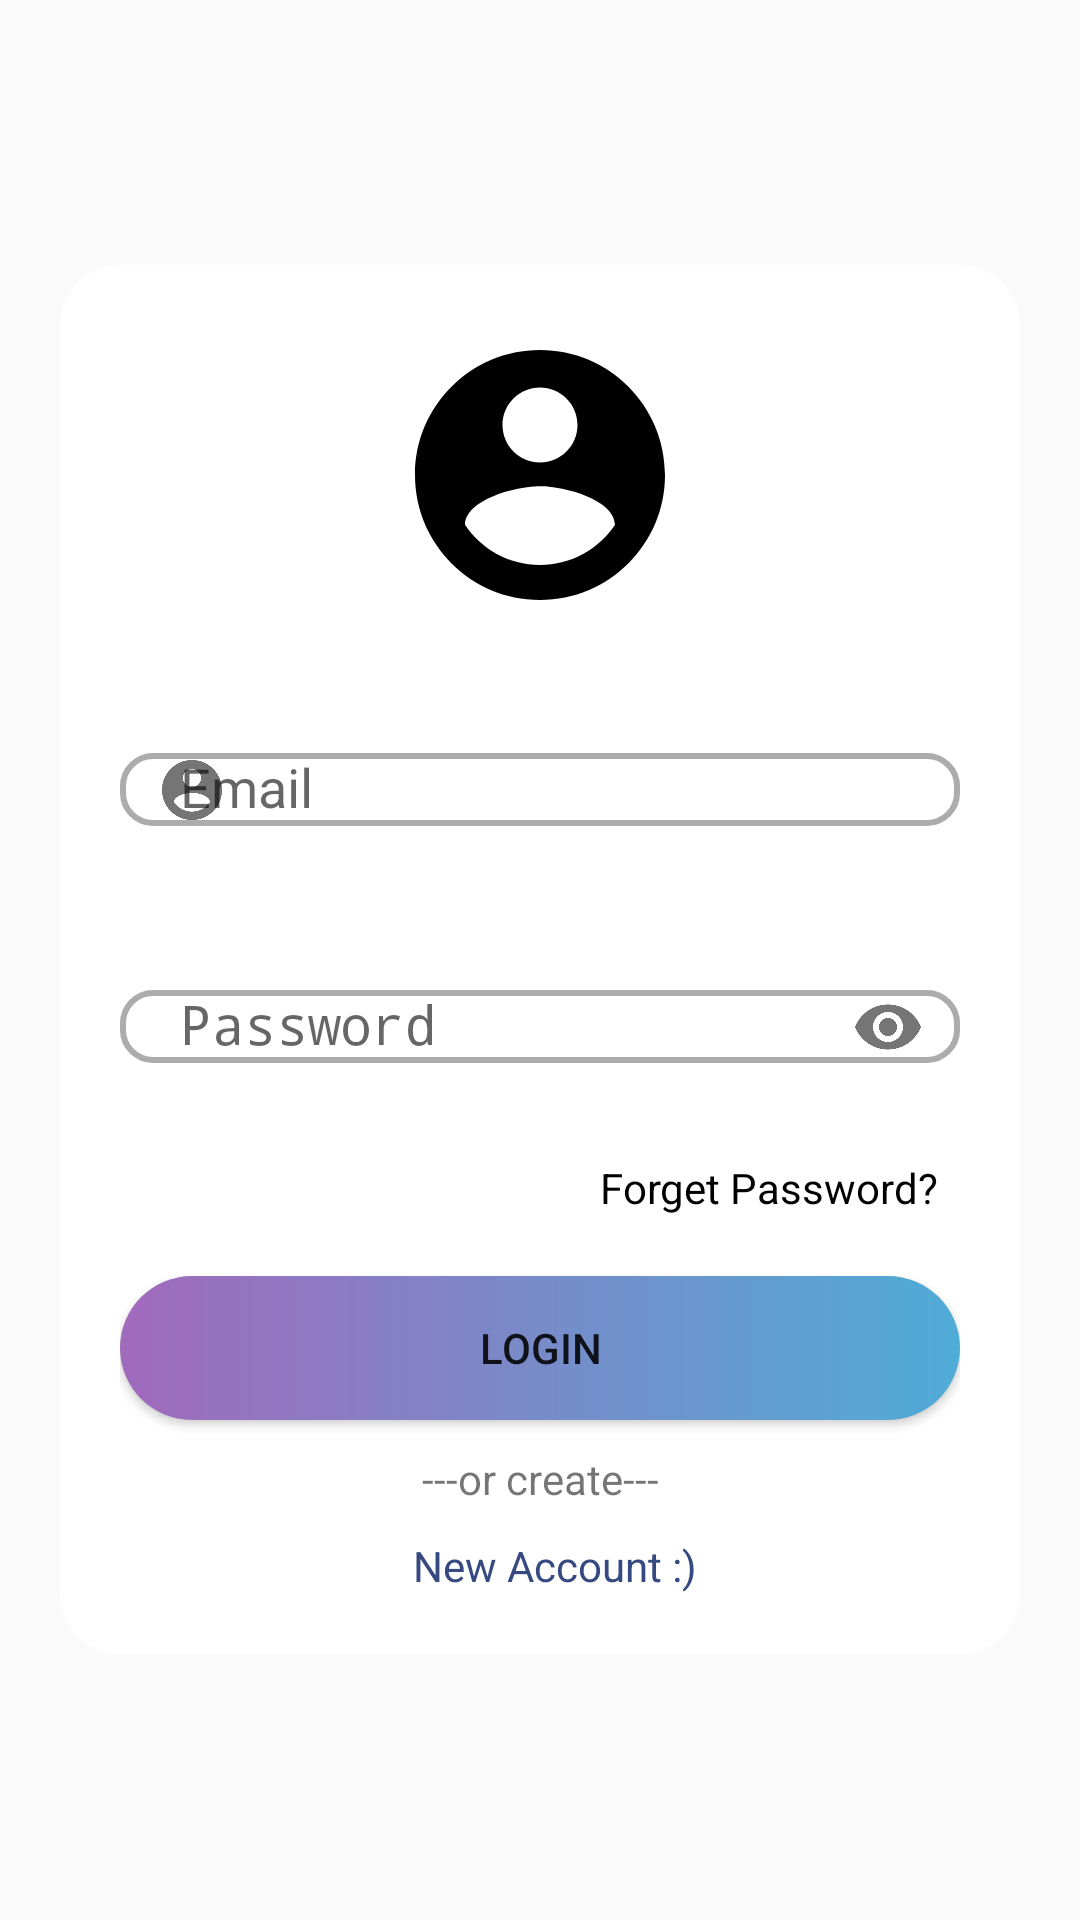

Icon bounding boxes for this 1080px×1920px phone screenshot, format (x1, y1, x2, y2):
account circle: (415, 350, 665, 600)
